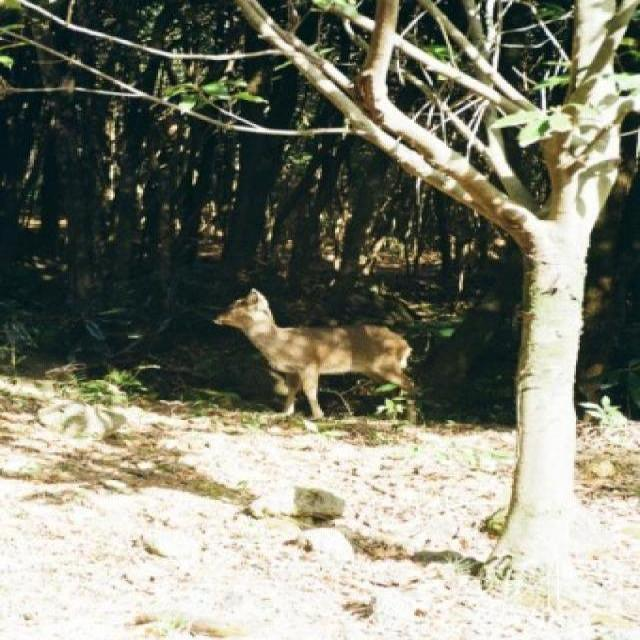deer: (194, 292, 478, 448)
